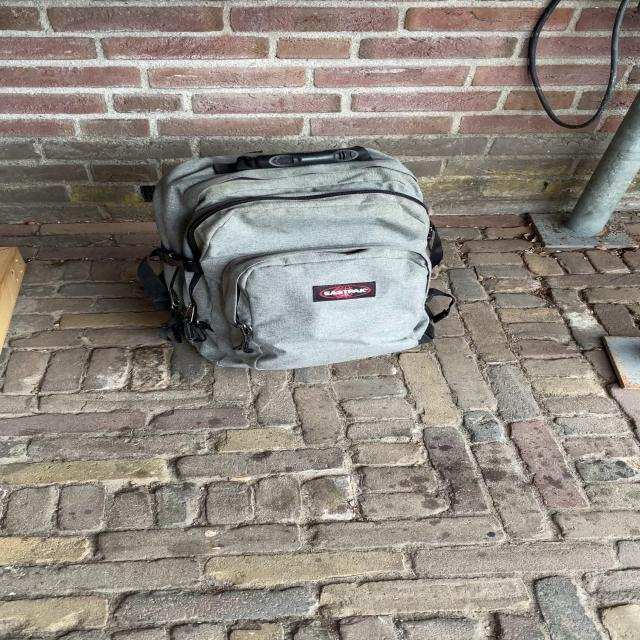backpack: (128, 137, 457, 376)
